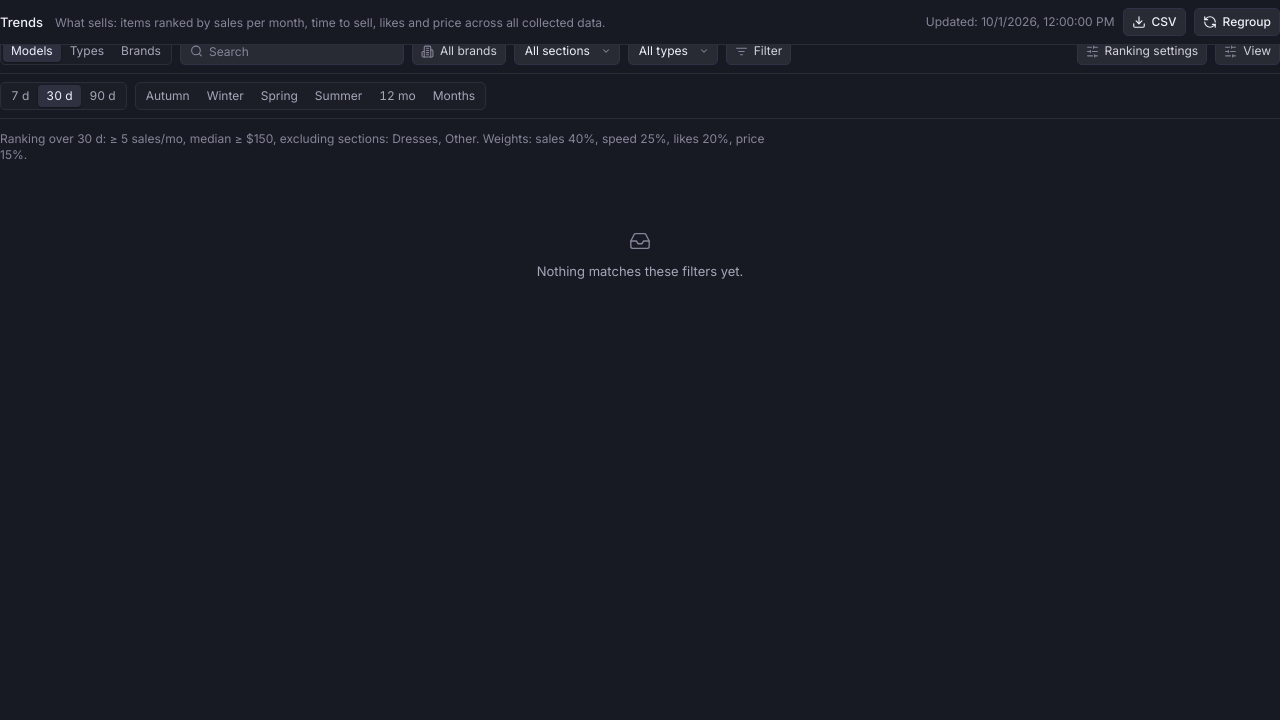
stage 10 screens › shows the API error when saving the ranking fails
Click the button "Ranking settings".
click(1142, 51)  # box 1076,37 -> 1207,65
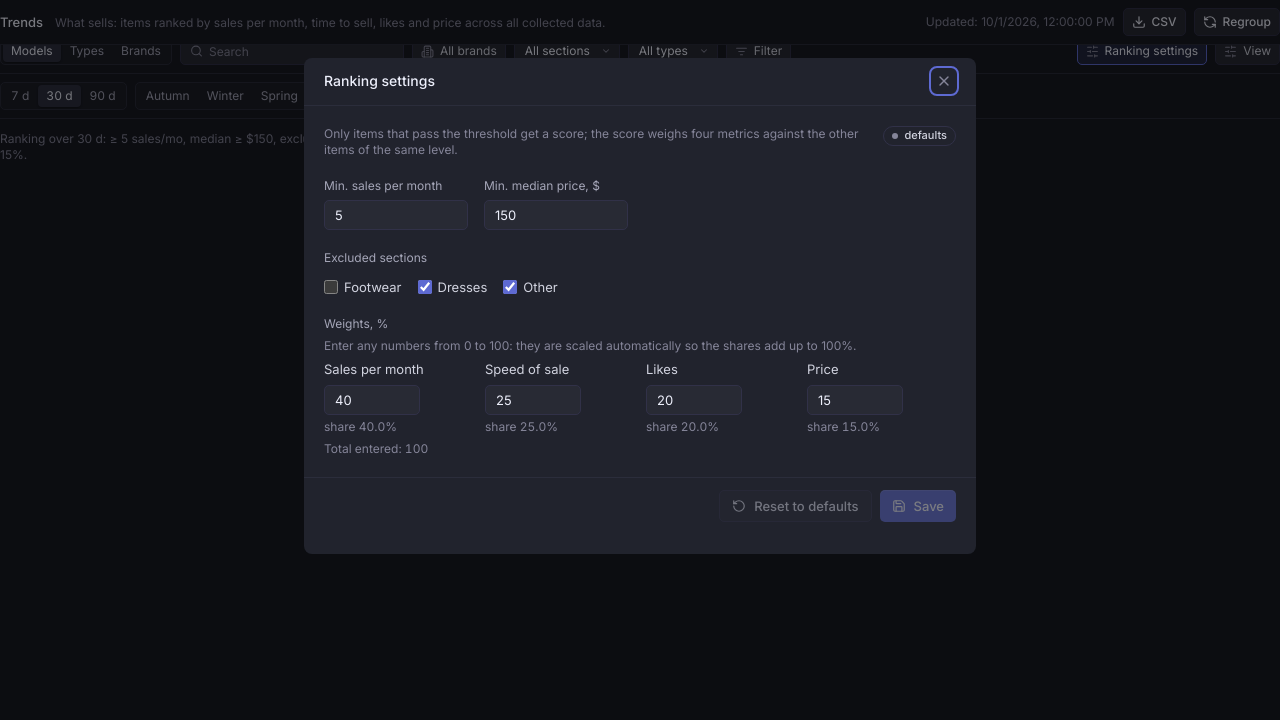
Replace the text in the number field labelled "Min. median price, $" with "200" at (556, 215), box 484,200 -> 628,230
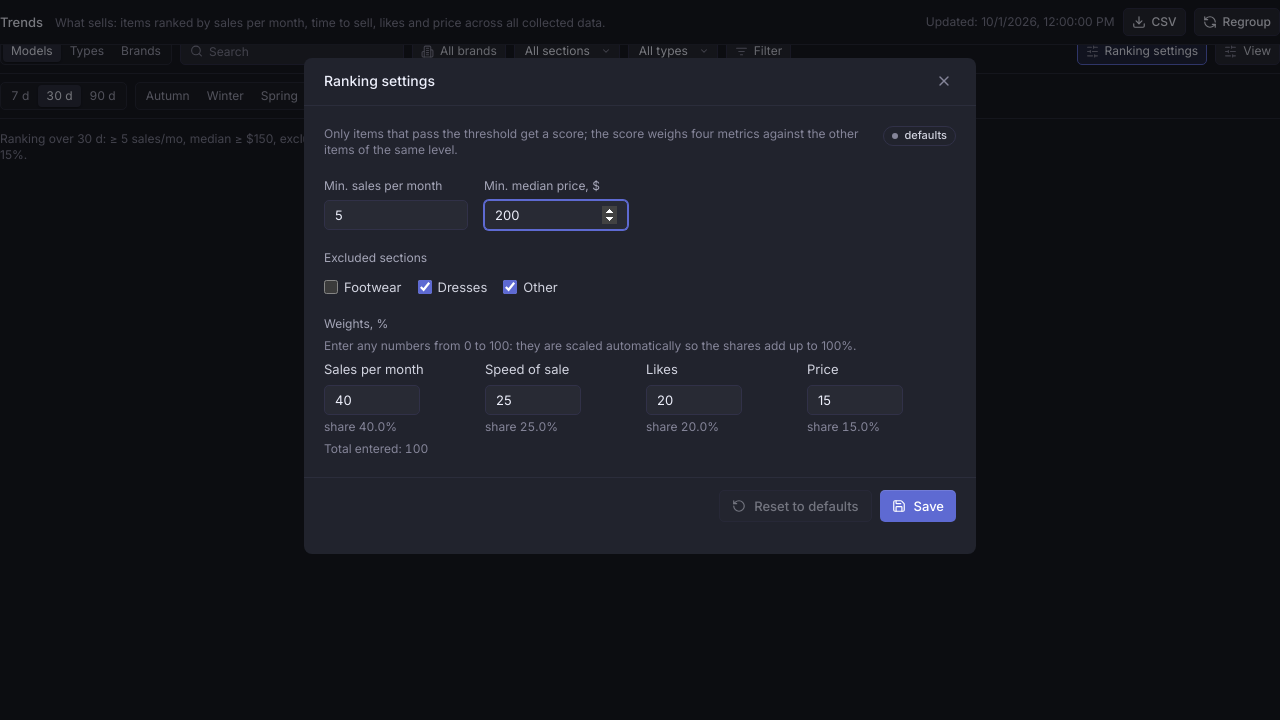
Click the button "Save".
click(918, 506)  # box 880,490 -> 956,522
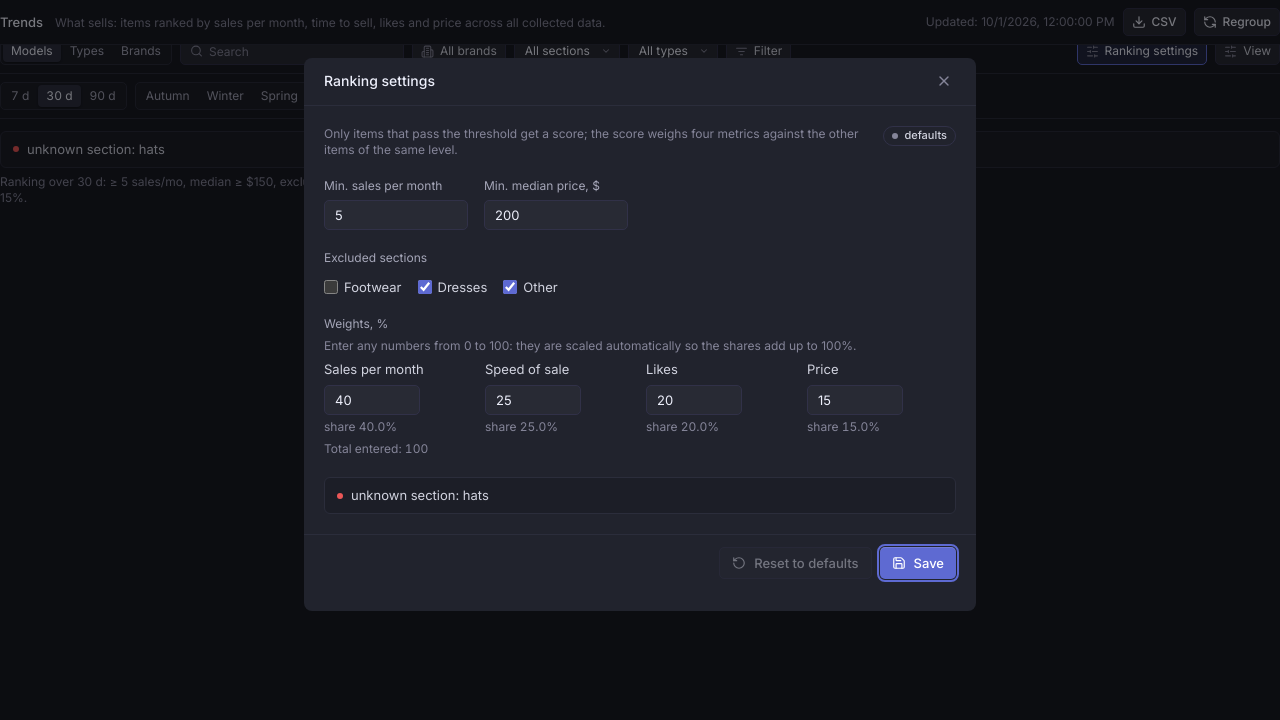
Now the text "unknown section: hats" is shown, box 324,477 -> 956,514
